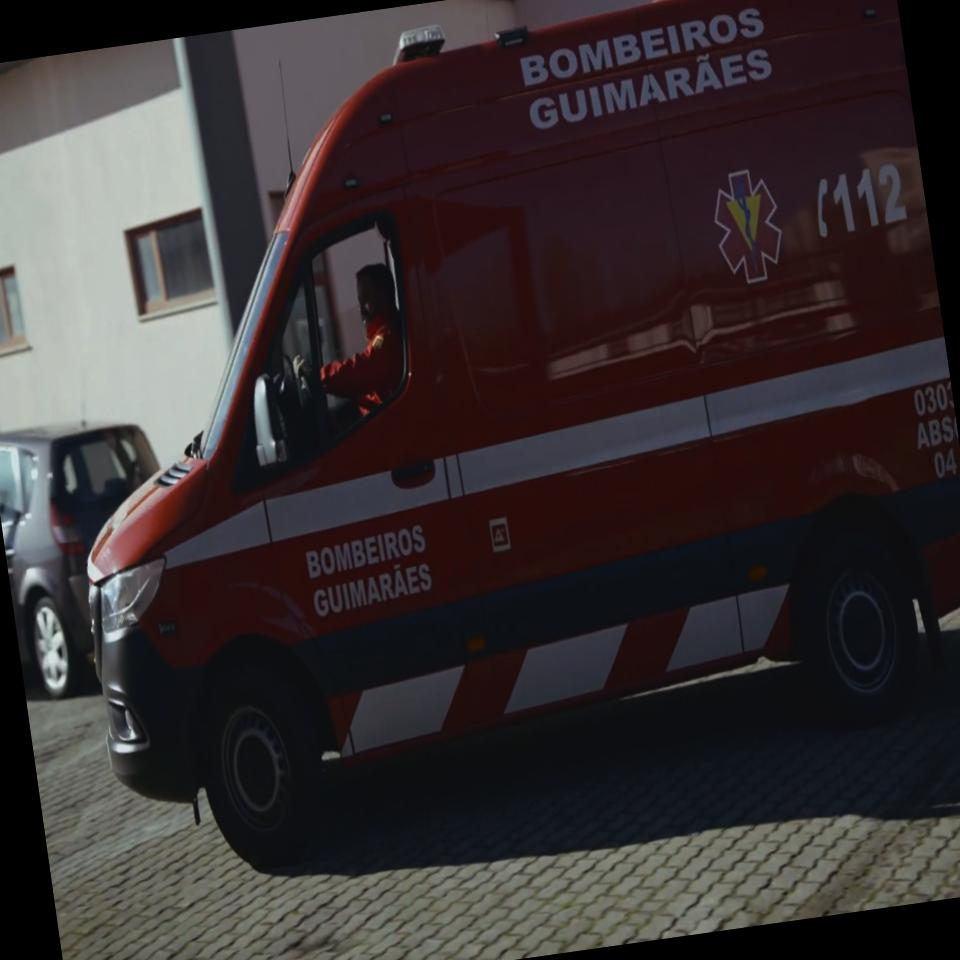viatura: (12, 0, 960, 884)
